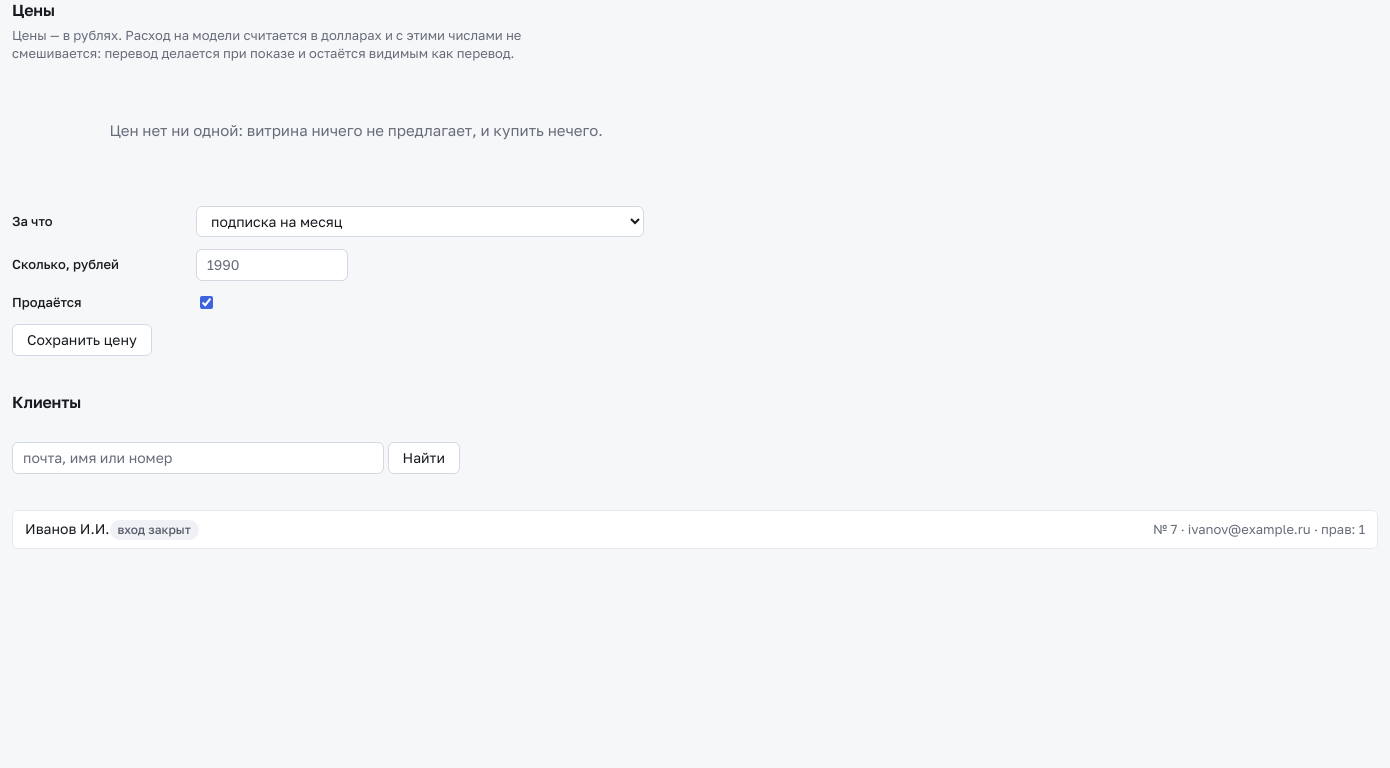
Test: продажи › закрытый вход назван закрытым, и предлагается его открыть
This screenshot has width=1390, height=768.
expect the text "вход закрыт" is shown: met, box [110,520,199,540]
Click the text "Иванов И.И.": [112, 529] box [25,519,199,540]
(page scrolled)
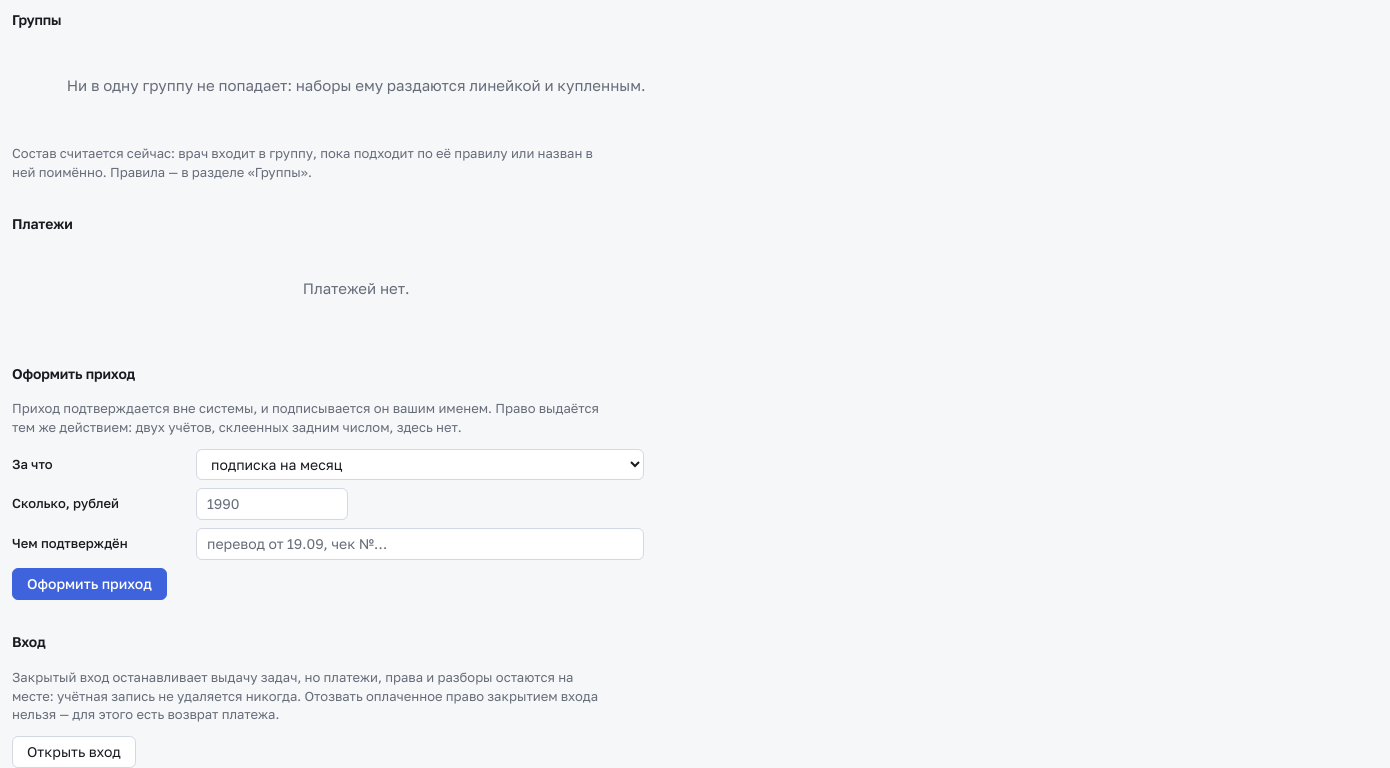
expect the button "Открыть вход" is shown: met, box [12,736,136,767]
